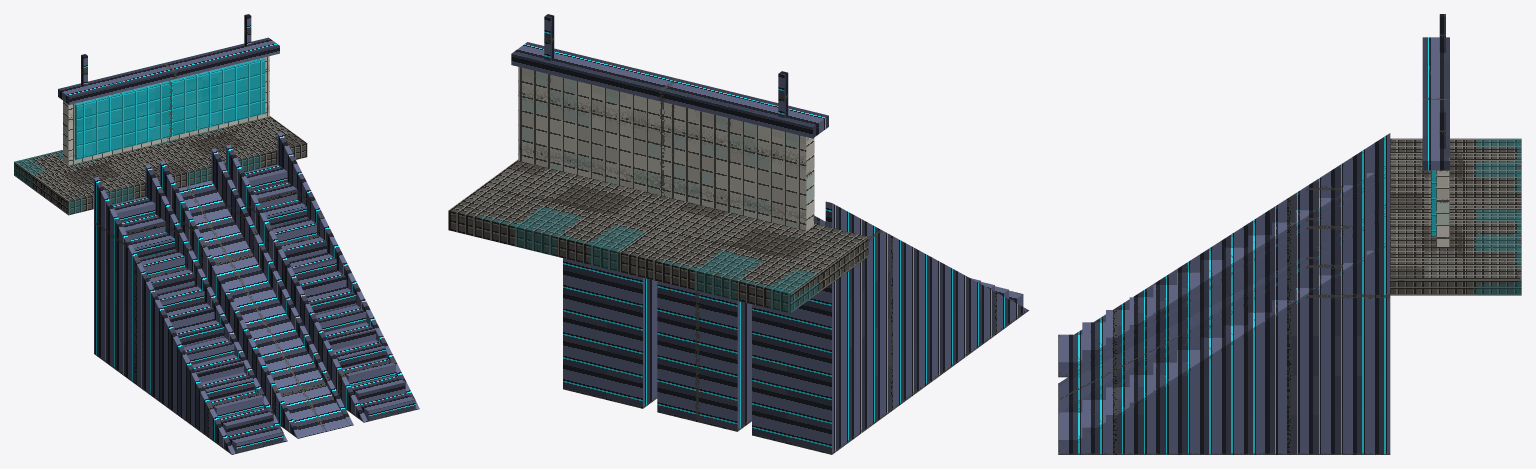
File: lm_escalator_bank.glb
3 views of the same model, side by side, from view 1: azimuth 30°, elevation 25°; view 2: azimuth 150°, elevation 25°; view 3: azimuth 270°, elevation 25° (orthographic). The views are drawn at different scales.
Parts seen in each view (by area): view 1: lm_escalator_bank; view 2: lm_escalator_bank; view 3: lm_escalator_bank.
Part boxes in pixels (bbox=[...]): lm_escalator_bank: bbox=[14, 14, 419, 454]; lm_escalator_bank: bbox=[448, 14, 1028, 454]; lm_escalator_bank: bbox=[1058, 14, 1521, 454].
Bounding box in the file's own units: 7.6 × 8.5 × 10.6.
15 materials, 15 textured.
